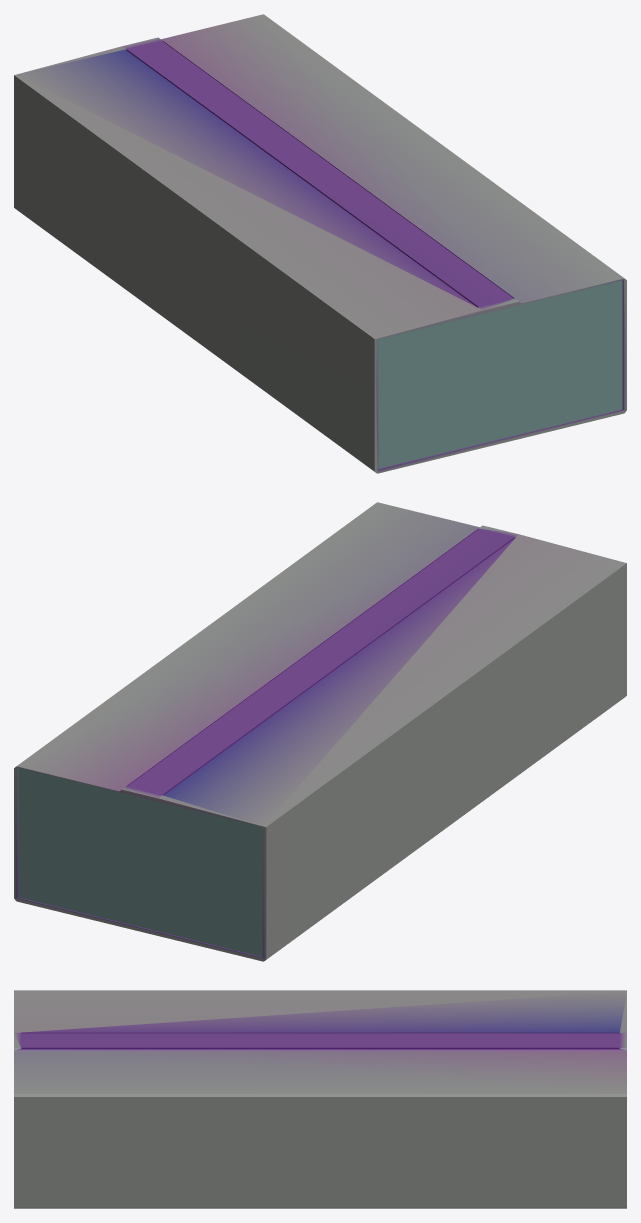
The model's file is simready-box_long_a02.glb.
3 views of the same model, one above another, from view 1: azimuth 30°, elevation 25°; view 2: azimuth 150°, elevation 25°; view 3: azimuth 270°, elevation 25° (orthographic). The views are drawn at different scales.
Visible parts, largest first — view 1: housing, end_panel.001; view 2: housing, end_panel; view 3: housing.
Part boxes in pixels (x1,y1,x2,y2): housing: [14, 14, 626, 473]; end_panel.001: [378, 280, 622, 468]; housing: [14, 502, 626, 961]; end_panel: [18, 768, 262, 956]; housing: [14, 990, 626, 1208].
Bounding box in the file's own units: 0.207 × 0.108 × 0.513.
